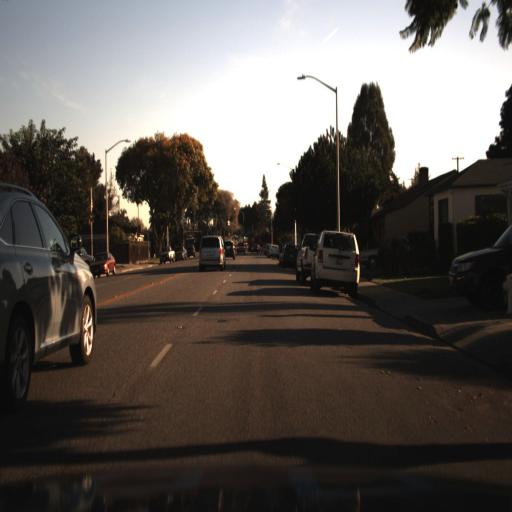car: (0, 181, 99, 409), (448, 219, 512, 316), (306, 224, 364, 299), (293, 231, 319, 284), (196, 236, 225, 275), (89, 248, 118, 280), (91, 248, 118, 275), (278, 238, 296, 268), (216, 238, 234, 264), (155, 245, 175, 265), (183, 240, 198, 264), (161, 243, 175, 265), (173, 241, 188, 259), (249, 243, 260, 254)
